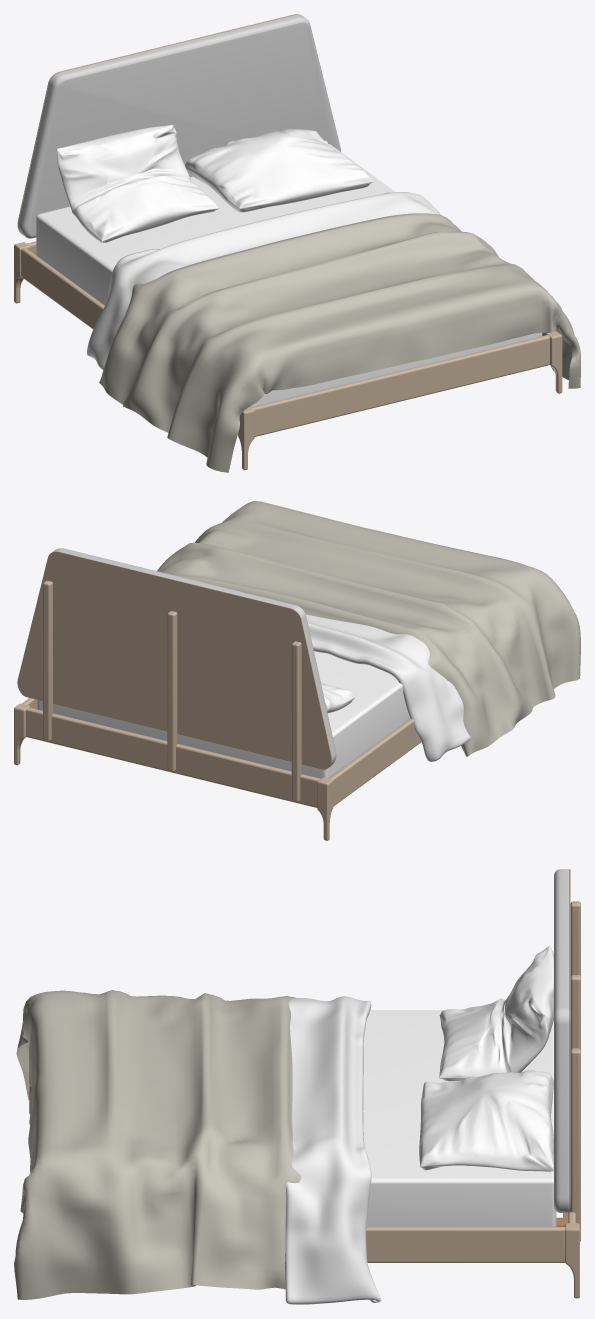
File: tannat-cama.glb
3 renders of one model, top to bottom at view 1: azimuth 30°, elevation 25°; view 2: azimuth 150°, elevation 25°; view 3: azimuth 270°, elevation 25°, orthographic. The views are drawn at different scales.
Visible parts, largest first — view 1: object 3, object 34, object 2, Obj_000003#1, object 4, object 5, object 26, object 29, object 27, object 28, object 33; view 2: object 3, object 33, Obj_000003#1, object 4, object 31, object 29, object 34, object 36, object 37, object 35, object 32, object 2 (+1 smaller); view 3: object 3, object 4, Obj_000003#1, object 5, object 2, object 25, object 34, object 35, object 30, object 36, object 37, object 33.
Part boxes in pixels (x1=…): object 3: x1=99, y1=213, x2=580, y2=472; object 34: x1=18, y1=14, x2=340, y2=238; object 2: x1=56, y1=125, x2=219, y2=242; Obj_000003#1: x1=36, y1=143, x2=542, y2=407; object 4: x1=87, y1=192, x2=441, y2=369; object 5: x1=185, y1=129, x2=372, y2=212; object 26: x1=250, y1=335, x2=549, y2=436; object 29: x1=21, y1=248, x2=238, y2=435; object 27: x1=238, y1=407, x2=254, y2=470; object 28: x1=546, y1=331, x2=562, y2=393; object 33: x1=17, y1=14, x2=301, y2=233; object 3: x1=157, y1=501, x2=580, y2=756; object 33: x1=17, y1=551, x2=331, y2=769; Obj_000003#1: x1=37, y1=651, x2=410, y2=778; object 4: x1=306, y1=614, x2=470, y2=761; object 31: x1=26, y1=707, x2=320, y2=807; object 29: x1=328, y1=718, x2=421, y2=806; object 34: x1=53, y1=548, x2=336, y2=767; object 36: x1=291, y1=641, x2=301, y2=801; object 37: x1=167, y1=611, x2=177, y2=771; object 35: x1=43, y1=580, x2=52, y2=741; object 32: x1=317, y1=777, x2=333, y2=840; object 2: x1=321, y1=682, x2=355, y2=713; object 3: x1=14, y1=990, x2=301, y2=1299; object 4: x1=285, y1=996, x2=381, y2=1304; Obj_000003#1: x1=363, y1=1010, x2=556, y2=1226; object 5: x1=419, y1=1069, x2=553, y2=1171; object 2: x1=439, y1=945, x2=553, y2=1081; object 25: x1=366, y1=1226, x2=565, y2=1262; object 34: x1=554, y1=869, x2=569, y2=1212; object 35: x1=570, y1=1048, x2=580, y2=1241; object 30: x1=565, y1=1223, x2=579, y2=1298; object 36: x1=570, y1=901, x2=580, y2=976; object 37: x1=570, y1=975, x2=580, y2=1049; object 33: x1=569, y1=869, x2=570, y2=1212.
Bounding box in the file's own units: 2.1 × 1.15 × 2.21.
